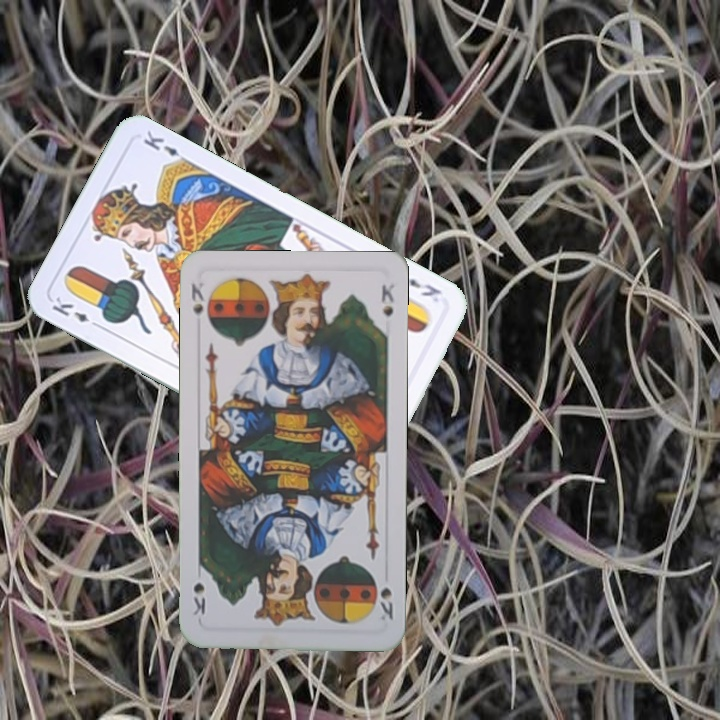EK: (48, 292, 104, 331), (404, 274, 445, 299)
SK: (375, 583, 395, 623), (188, 279, 207, 317)
